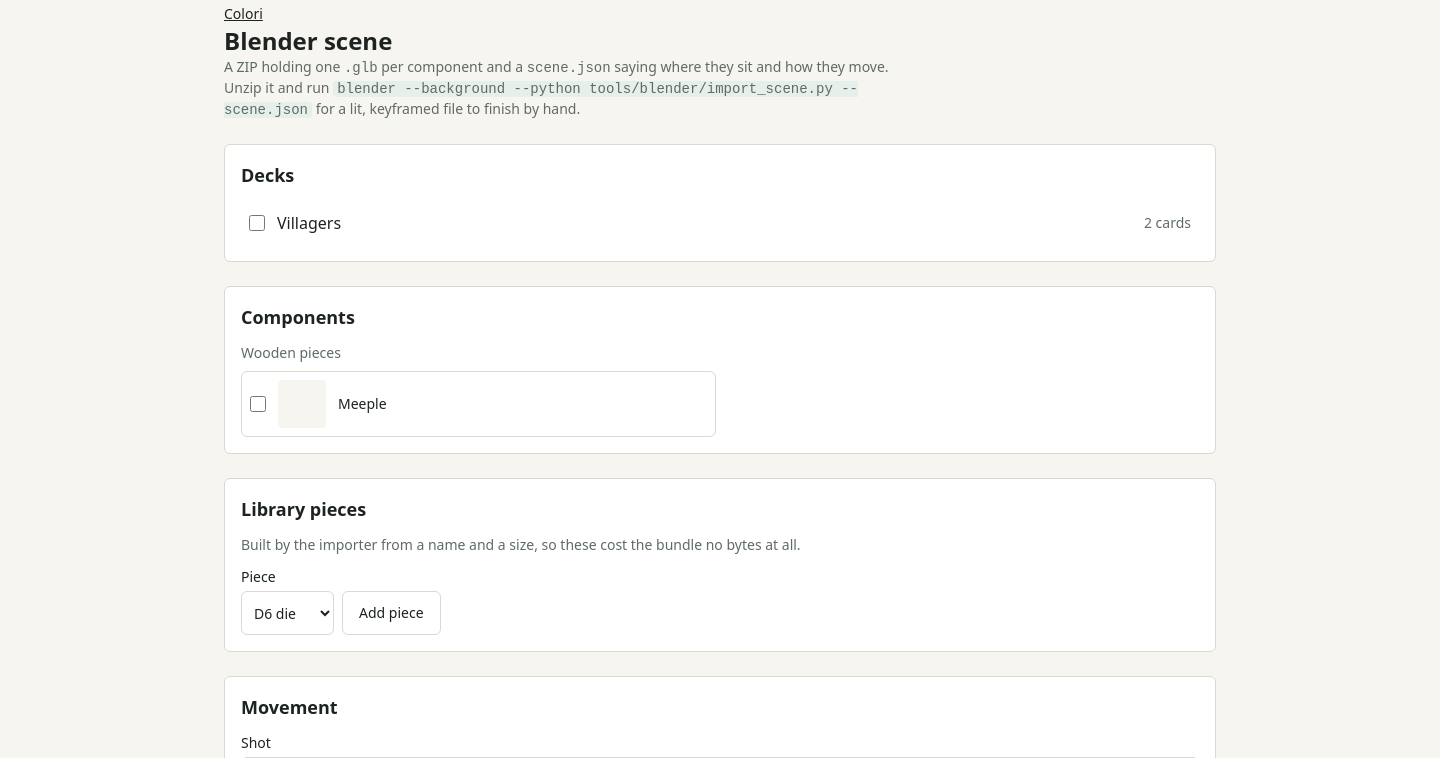
Test: Scene export screen › counts a deck by its copies, skipping a deleted image and a zeroed card
The image size is (1440, 758).
Click the checkbox labelled "Villagers 2 cards" at (257,223), box top-left (249, 215), bottom-right (265, 231)
(page scrolled)
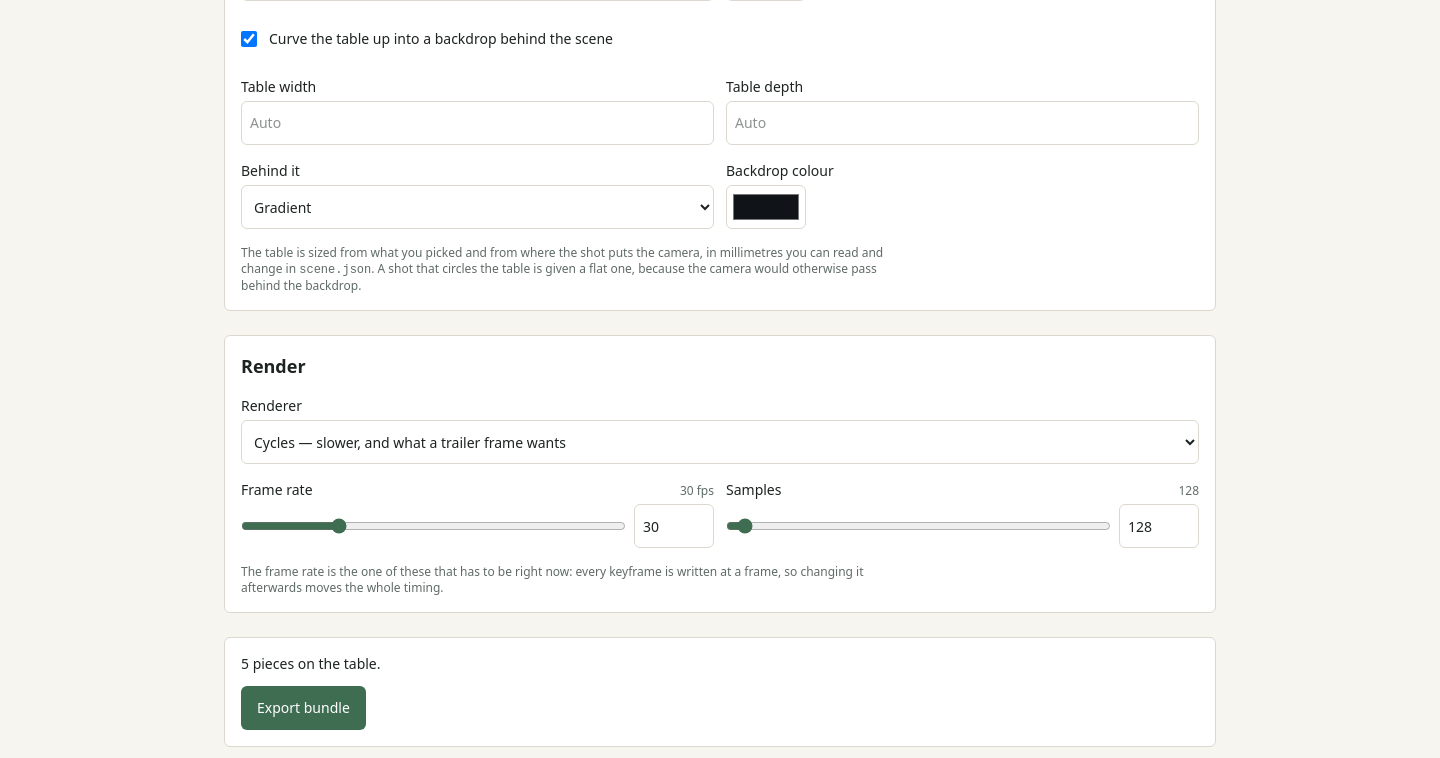
Check: the text "5 pieces on the table." is shown, box top-left (241, 654), bottom-right (380, 673)
Check: the button "Export bundle" is enabled, box top-left (241, 686), bottom-right (366, 730)
